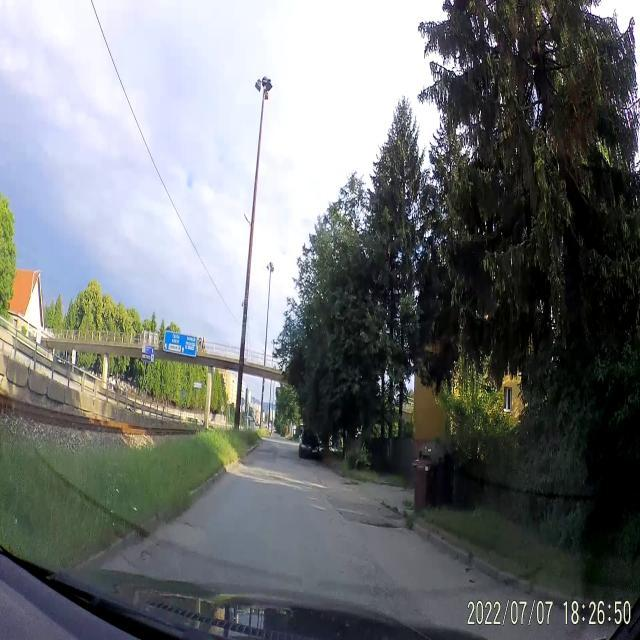Pothole: (352, 512, 399, 532)
